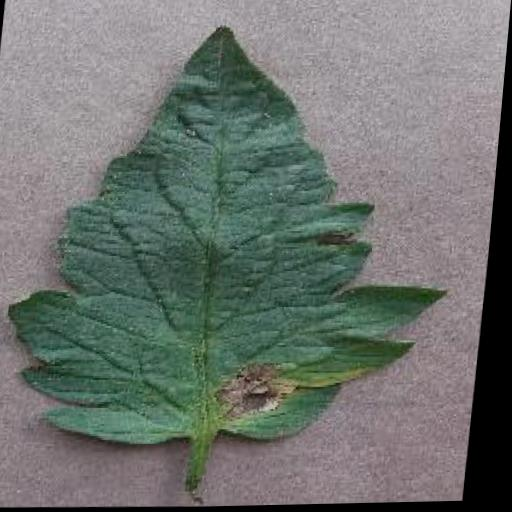Early Blight: (0, 15, 474, 452)
